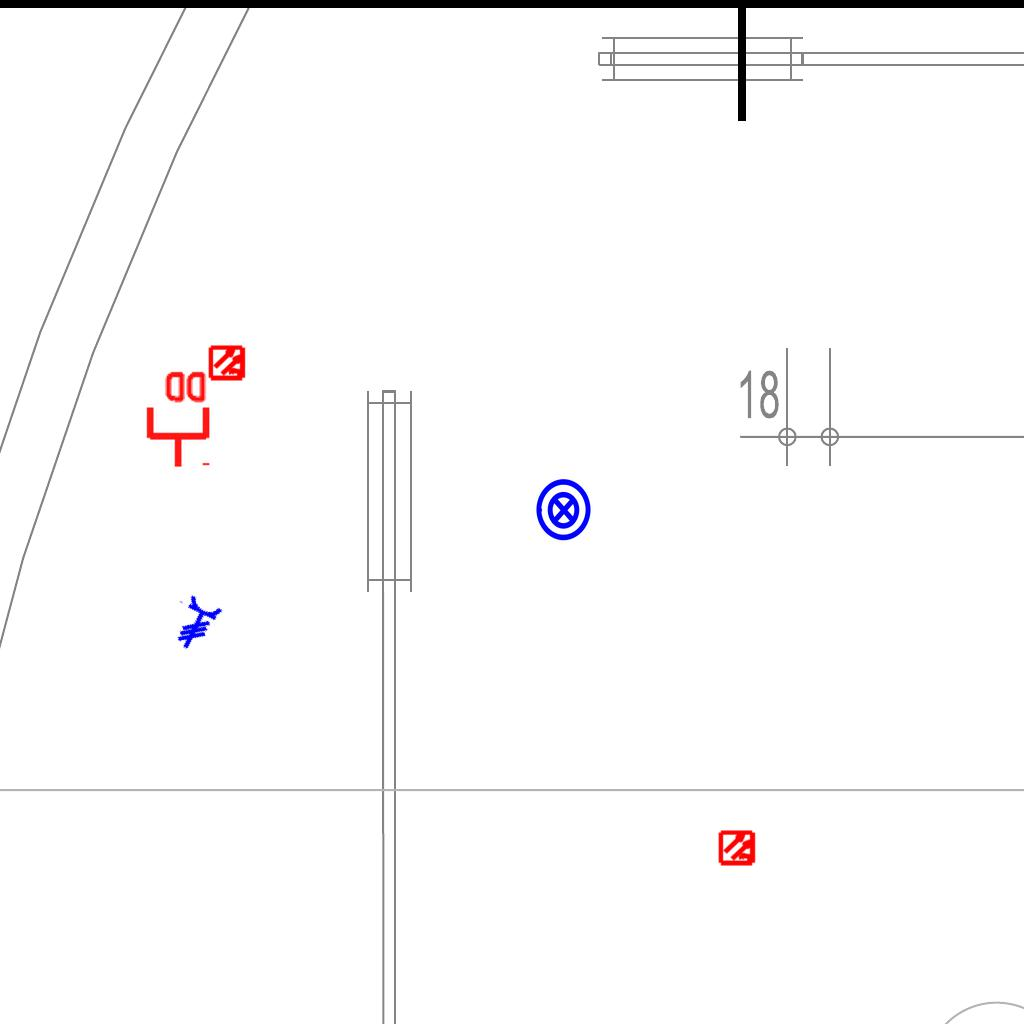CEE_Drehstrom_Steckdose_16_32_A: (160, 589, 225, 657)
Datenanschluss_zweifach: (142, 367, 211, 470)
OT_Multisensormelder_(Kombination_RMO_WMD): (200, 335, 256, 391), (710, 820, 766, 876)
Taster_beleuchtet: (531, 477, 597, 543)
